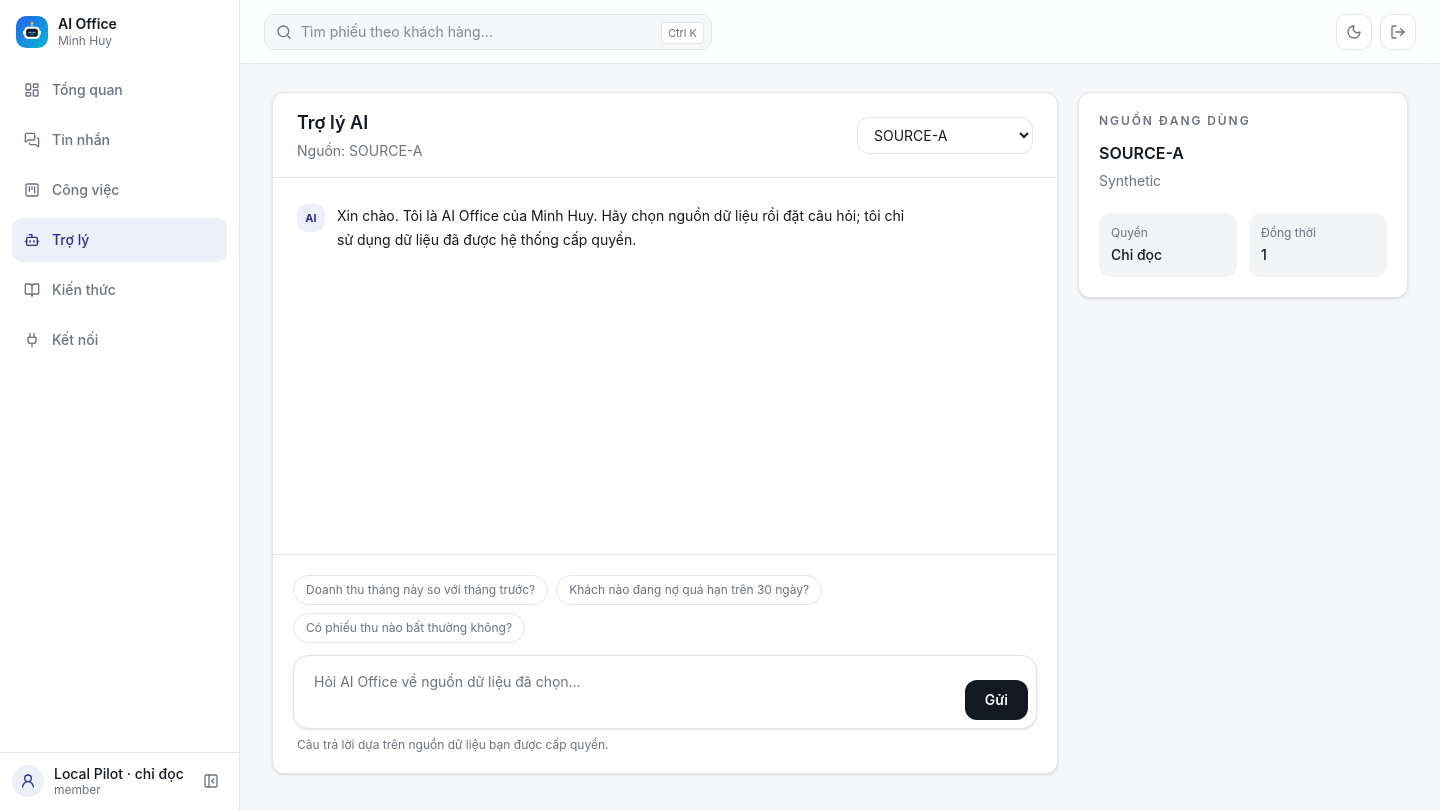
invalidates chat and ERP evidence on a connection-test 401
Step 1. Type "PRIVATE-A-QUESTION" into the text box named "question" → point(627, 692), box [302,664,953,720]
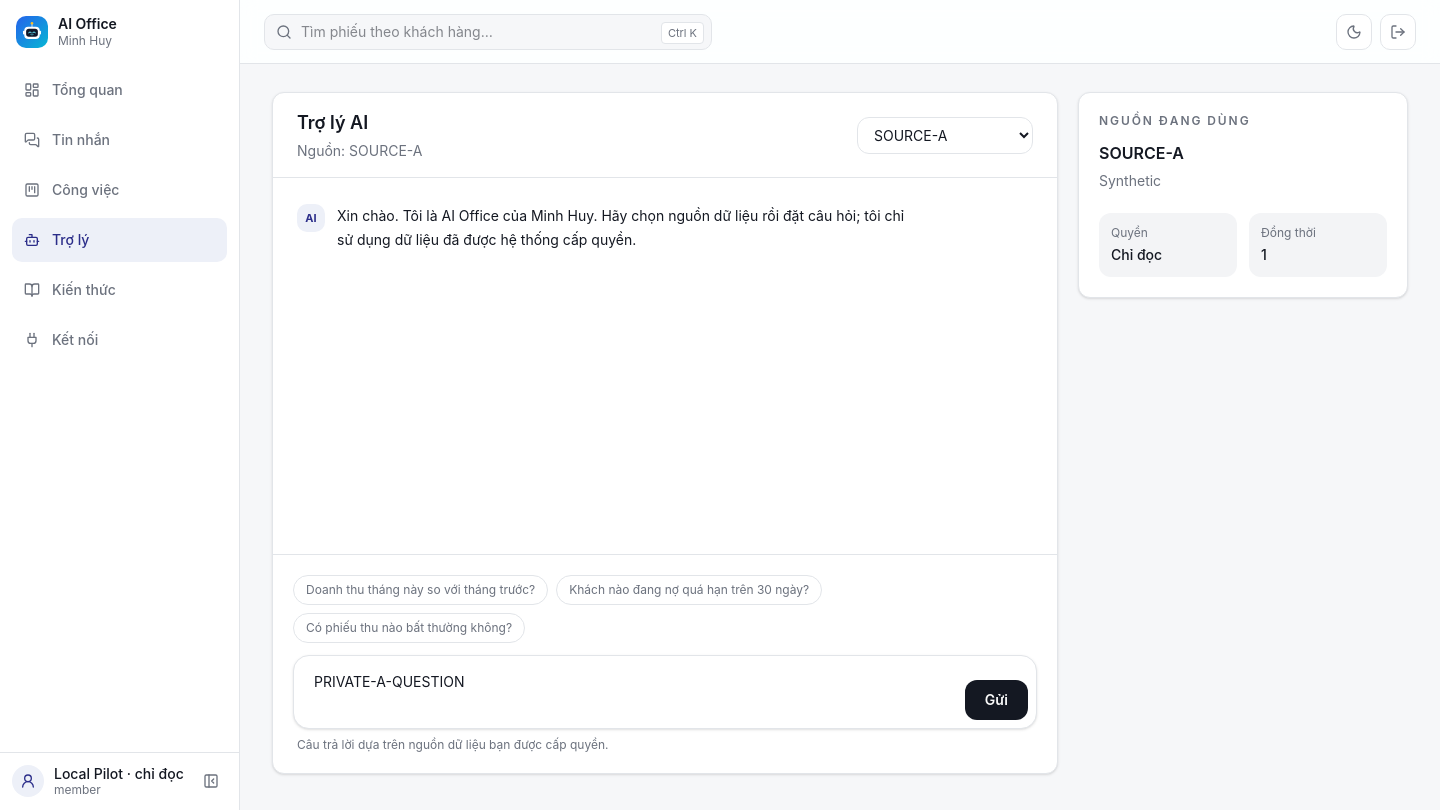
Step 2. Submit the form named "question", box [273,554,1057,773]
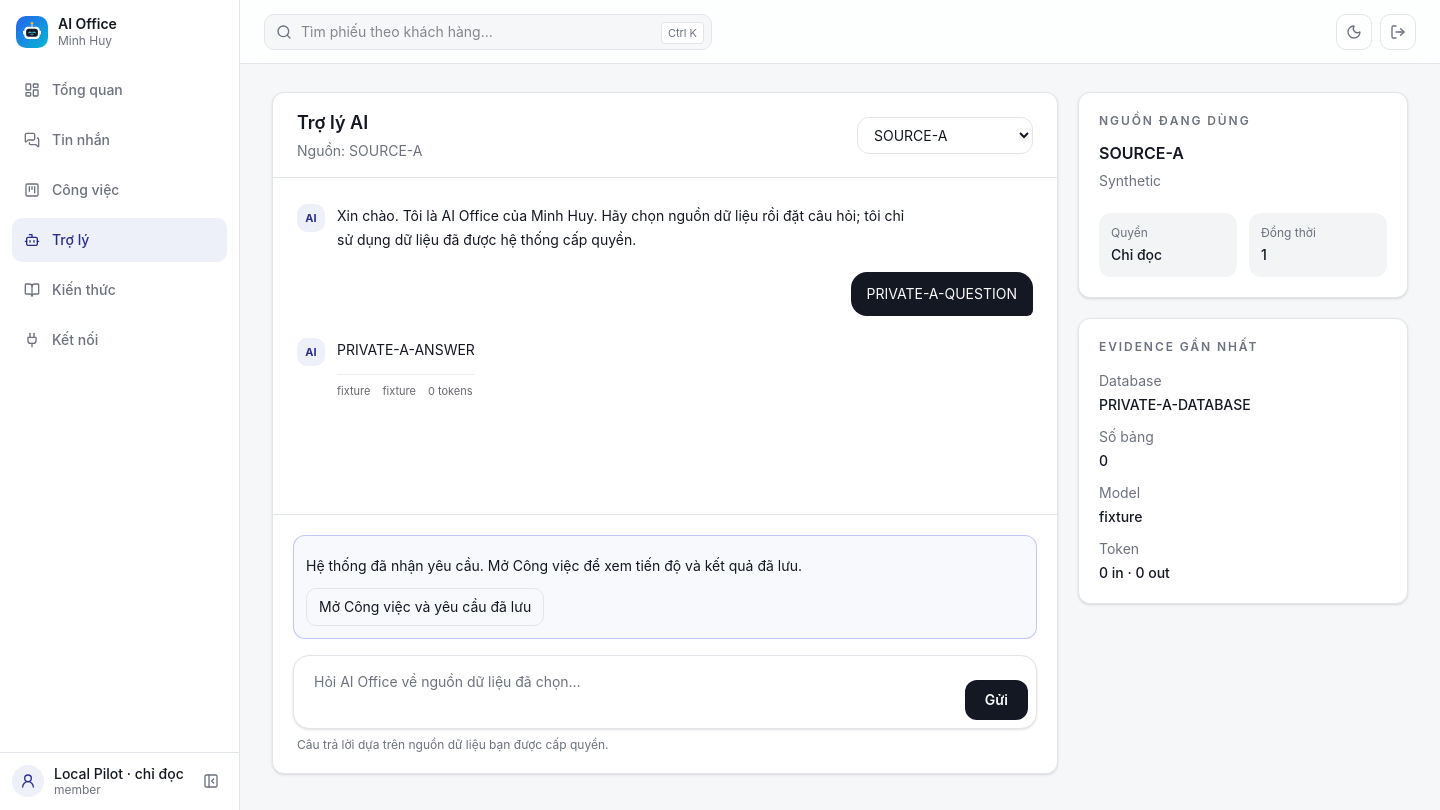
Result: the text "PRIVATE-A-ANSWER" is shown at [337,338,475,362]
Step 3. Click the button "Kết nối" → point(120, 340), box [12,318,227,362]
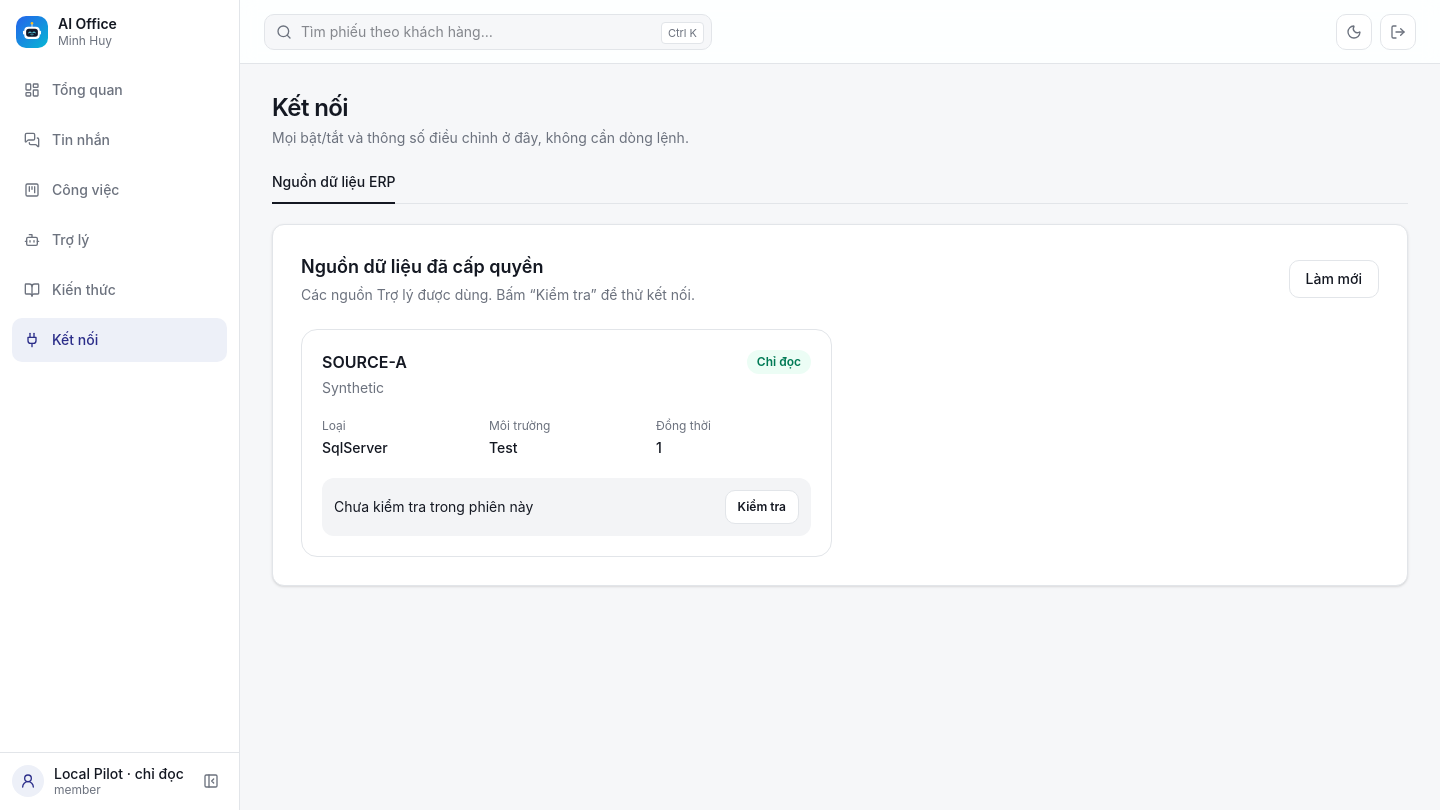
Step 4. Click the button "Kiểm tra" → point(762, 507), box [725,490,799,524]
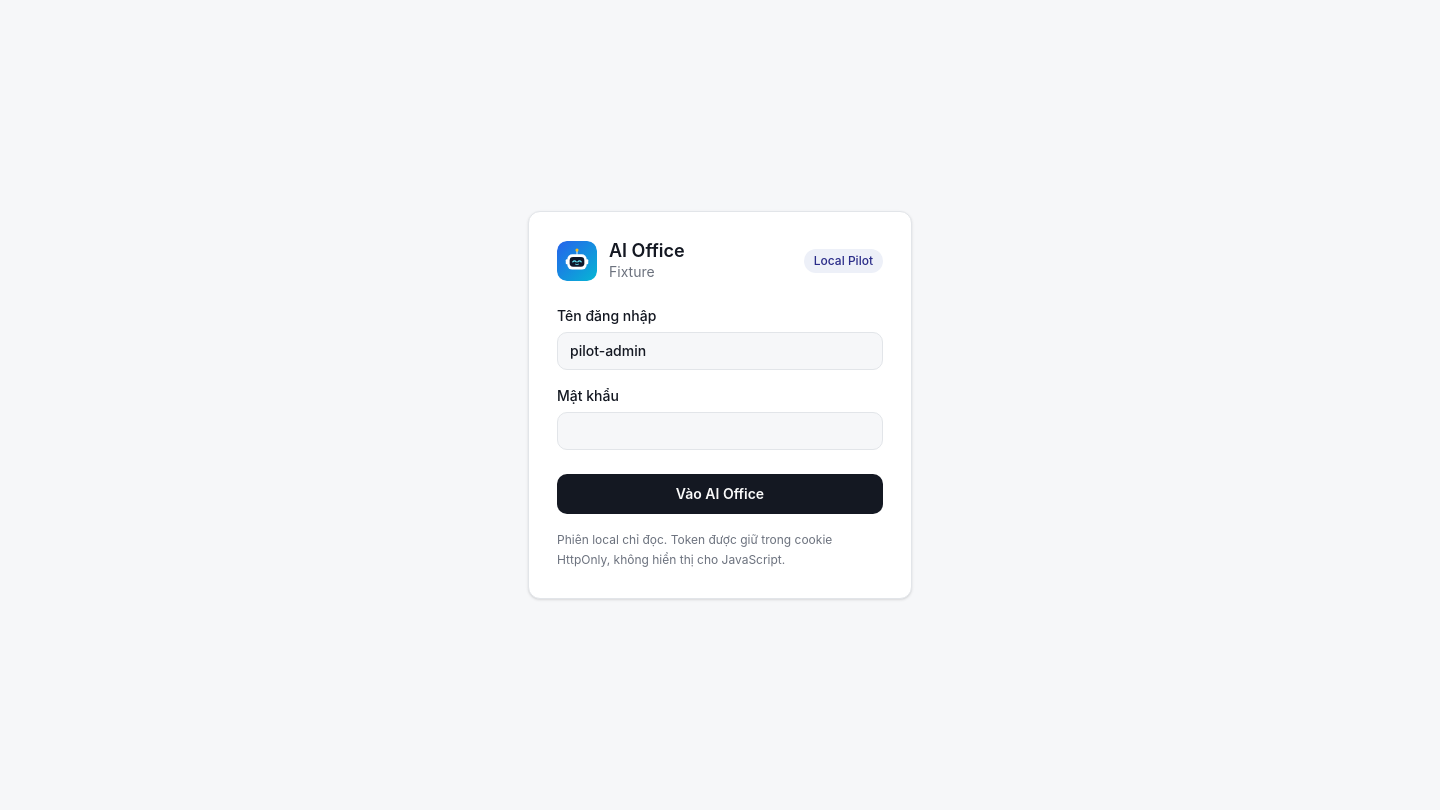
Expected: the text "PRIVATE-A-QUESTION" is not shown
Result: the field named "username" is shown at [557,332,883,370]
